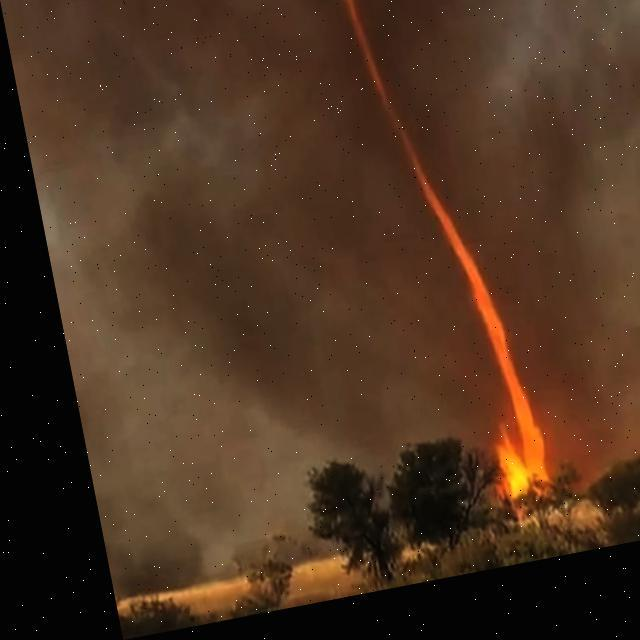Fire: (323, 0, 540, 533)
